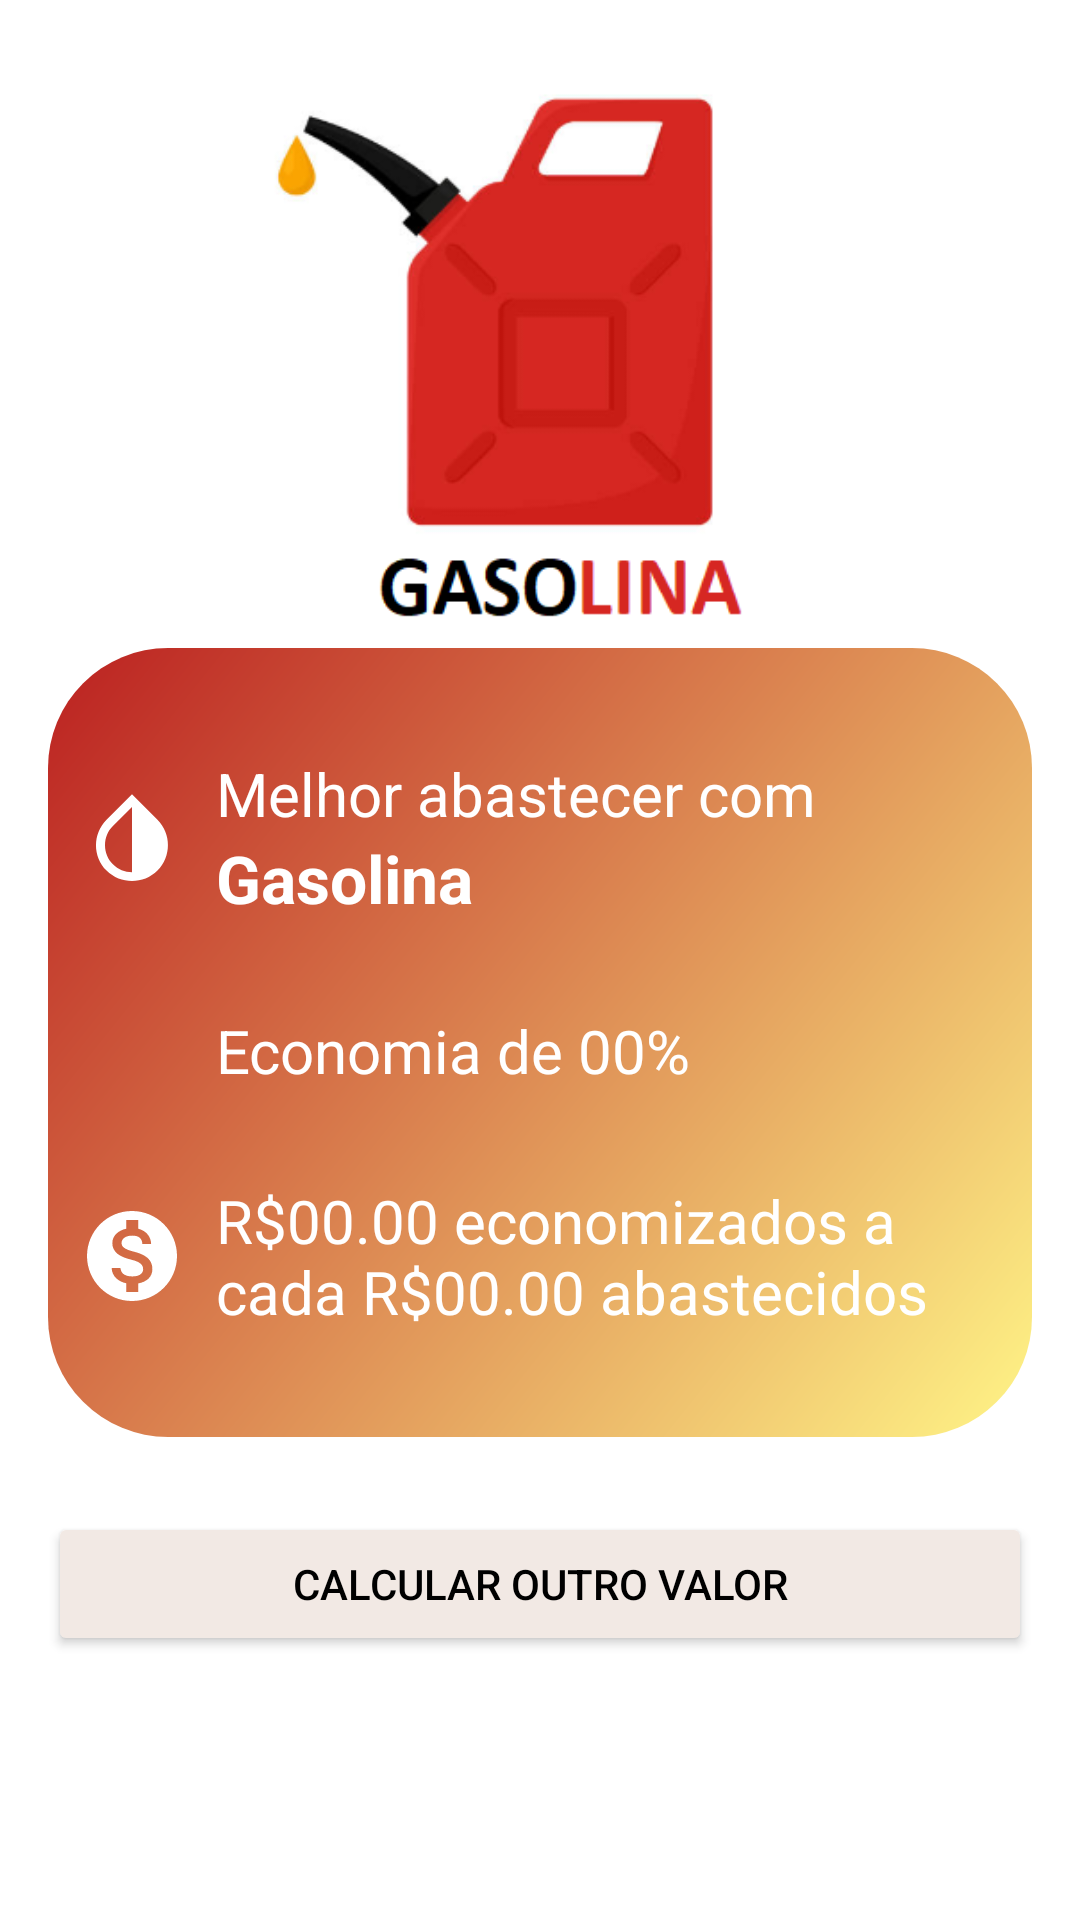

Icon bounding boxes for this 1080 × 1920 phone screenshot, format {"left": x1, "top": y1, "right": x2, "bottom": y2}:
dinheiro branco: {"left": 87, "top": 1211, "right": 177, "bottom": 1301}
